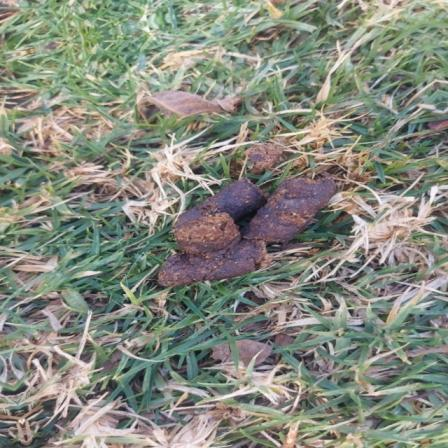dog-poop: (163, 152, 326, 282)
